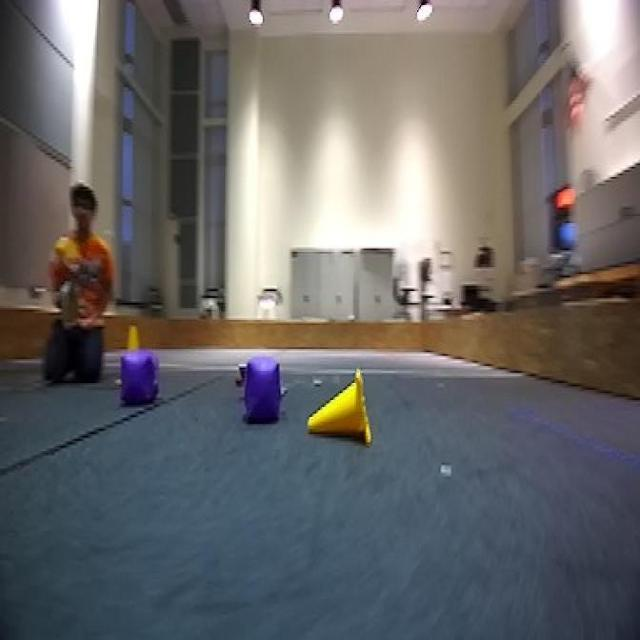frc_cone: (302, 361, 375, 453), (114, 320, 152, 352)
frc_cube: (237, 354, 284, 429), (118, 346, 150, 408)
